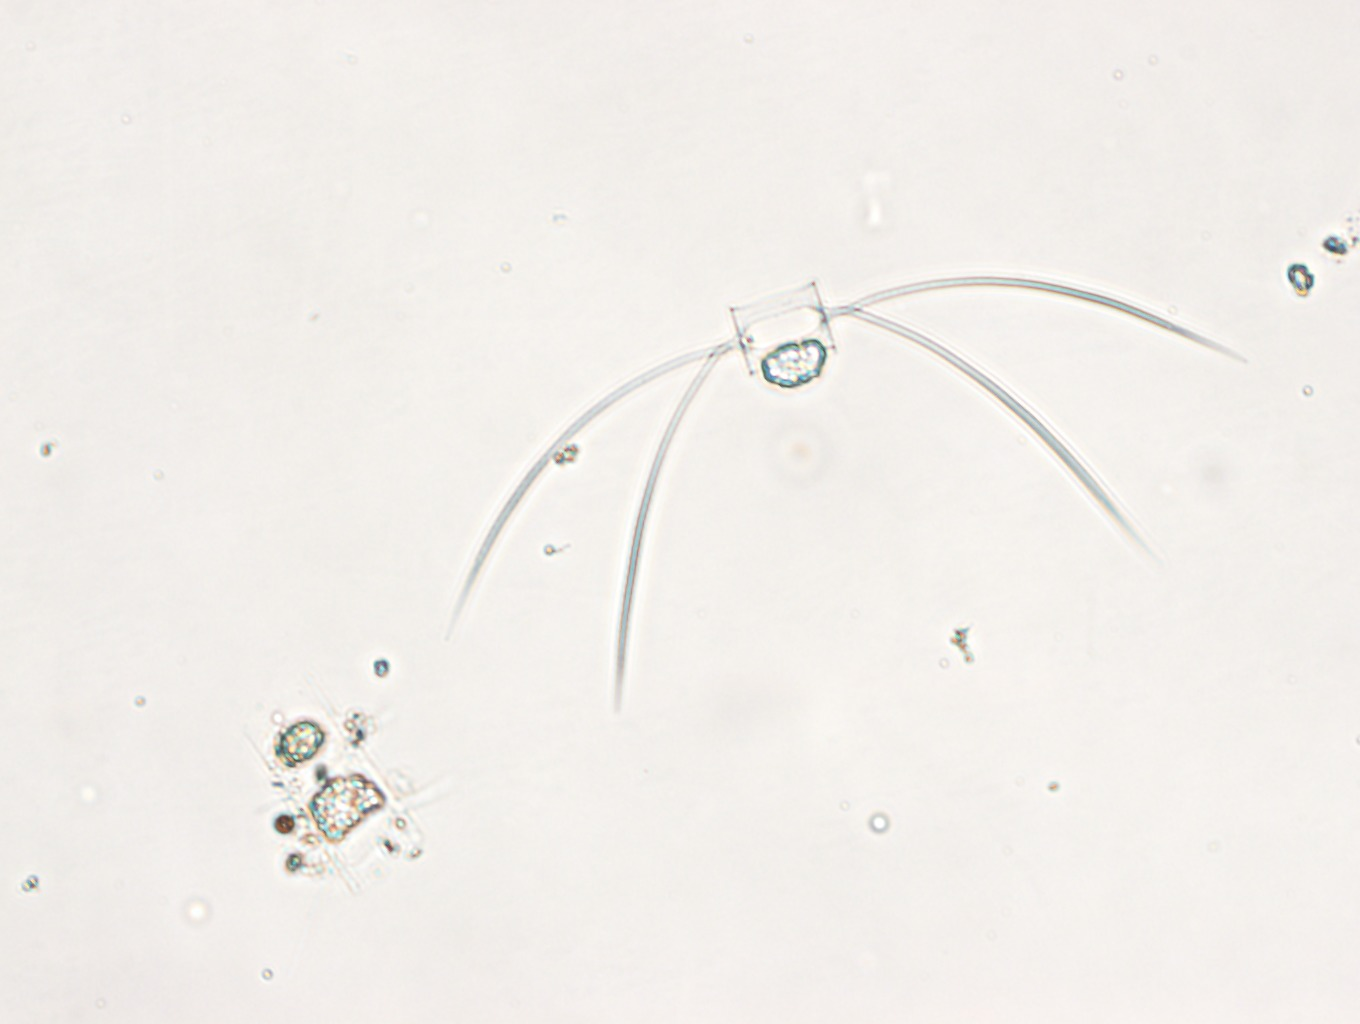chaetoceros: (445, 274, 1251, 716), (242, 692, 456, 900)
